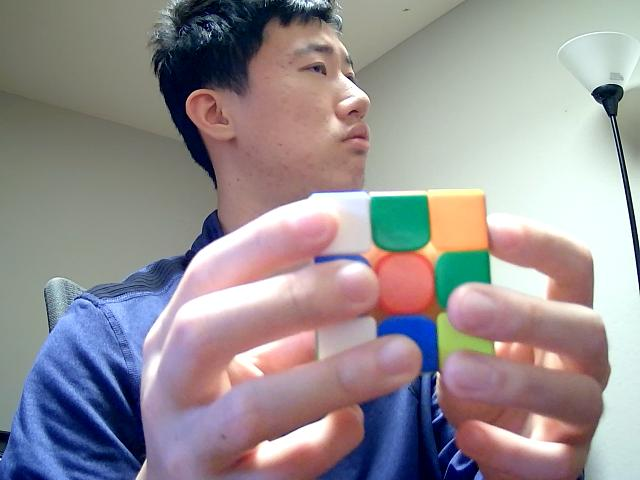Rubiks-Cube: (304, 185, 498, 375)
